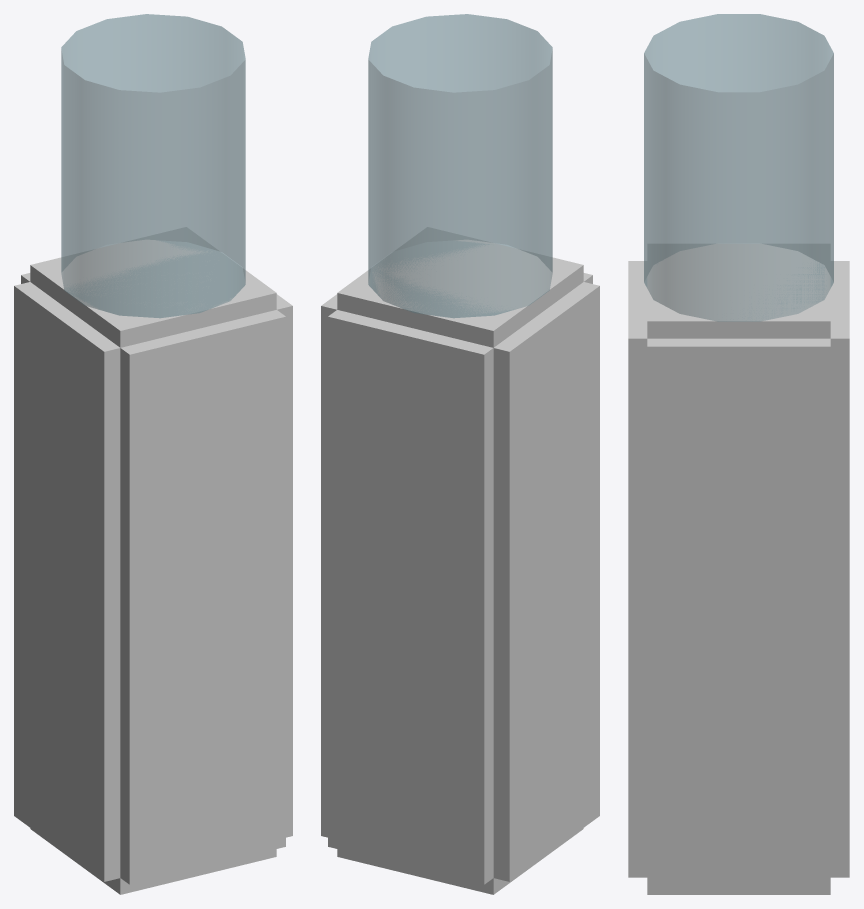
File: water_cooler.glb
3 views of the same model, side by side, from view 1: azimuth 30°, elevation 25°; view 2: azimuth 150°, elevation 25°; view 3: azimuth 270°, elevation 25° (orthographic).
Parts seen in each view (by area): view 1: water_cooler; view 2: water_cooler; view 3: water_cooler.
Part boxes in pixels (x1,y1,x2,y2): water_cooler: (14,14,292,894); water_cooler: (321,14,599,894); water_cooler: (628,14,849,894).
Bounding box in the file's own units: 0.35 × 1.4 × 0.35.
